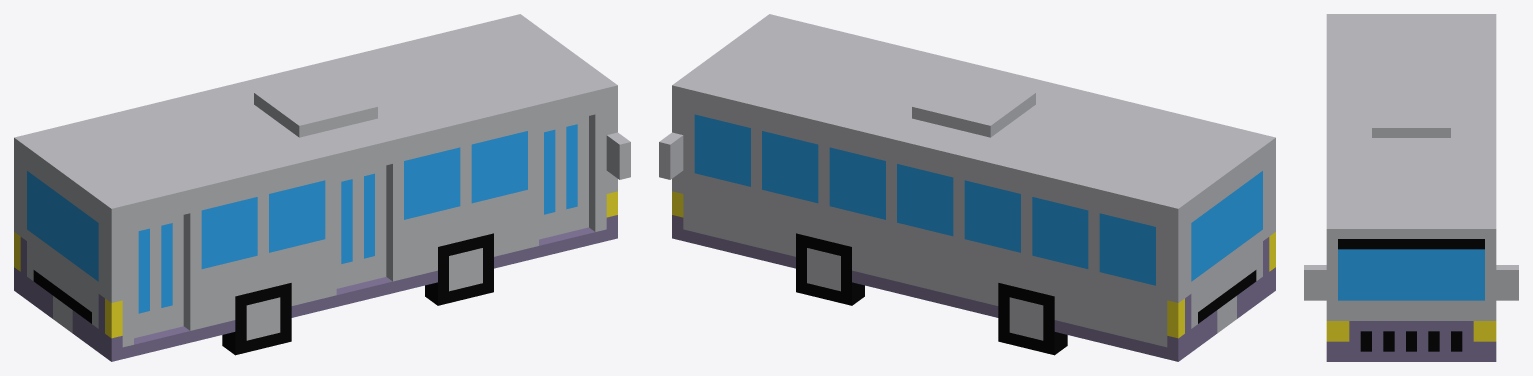
File: bus_d.obj
The picture shows the model from 3 angles, left to right: view 1: azimuth 30°, elevation 25°; view 2: azimuth 150°, elevation 25°; view 3: azimuth 270°, elevation 25°; orthographic projection. The views are drawn at different scales.
Size of the model in its own units: 4.5 by 1.6 by 1.9.
1 material, 1 textured.
